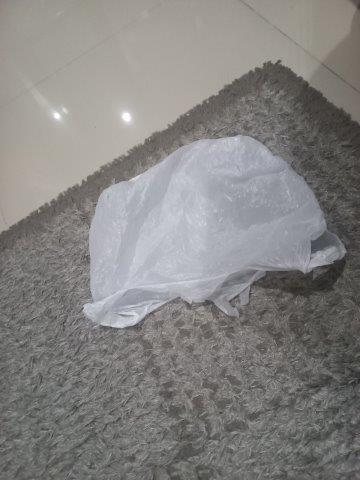plastik: (79, 135, 348, 330)
